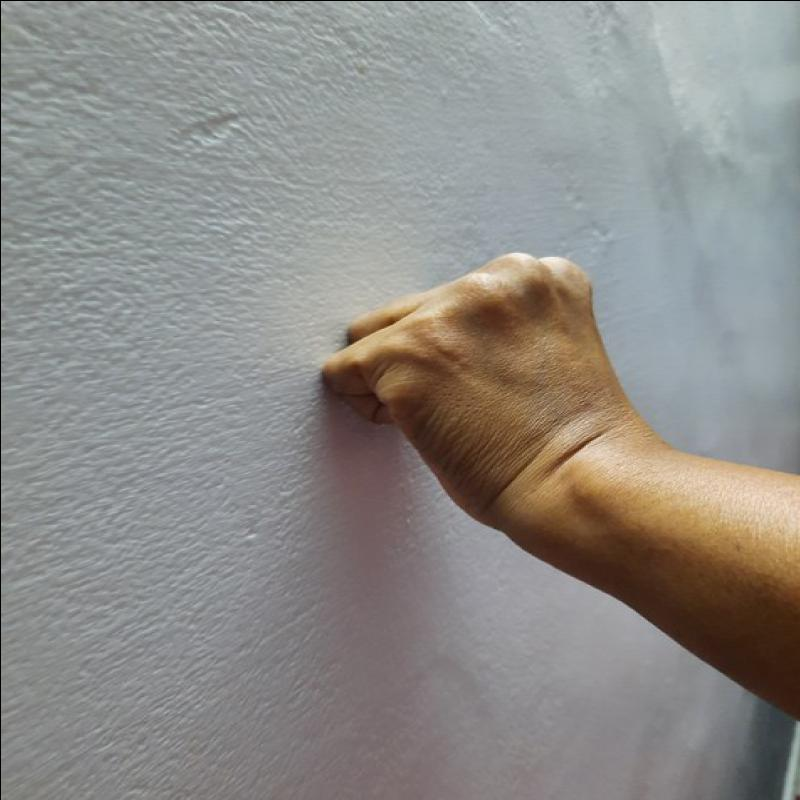Mushti: (310, 234, 668, 535)
